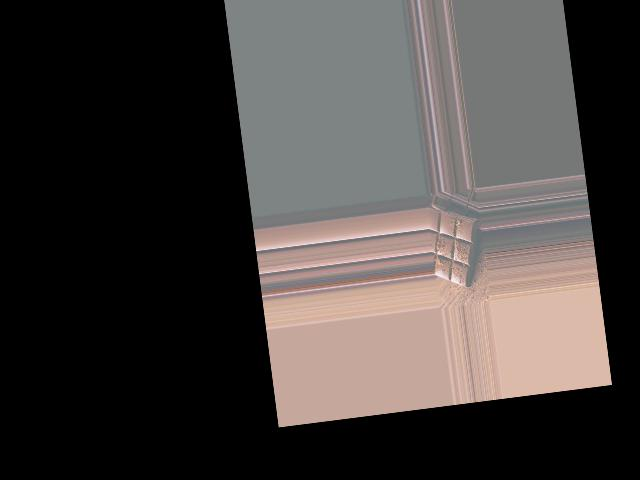chocolate: (427, 201, 485, 294)
